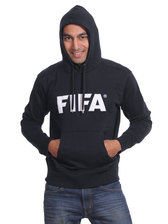clothoes: (20, 4, 155, 186)
